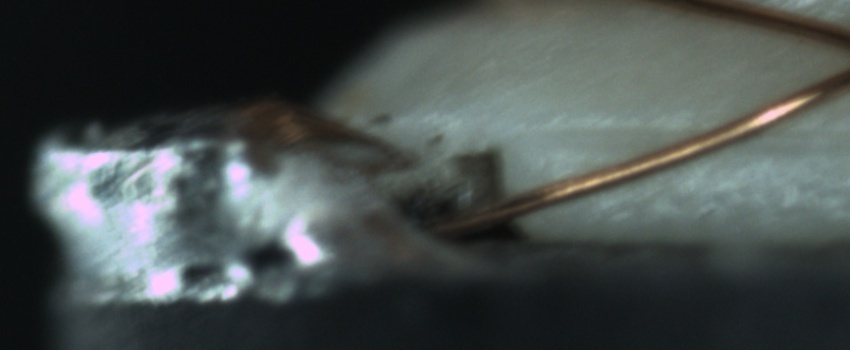DL: (543, 104, 849, 169)
